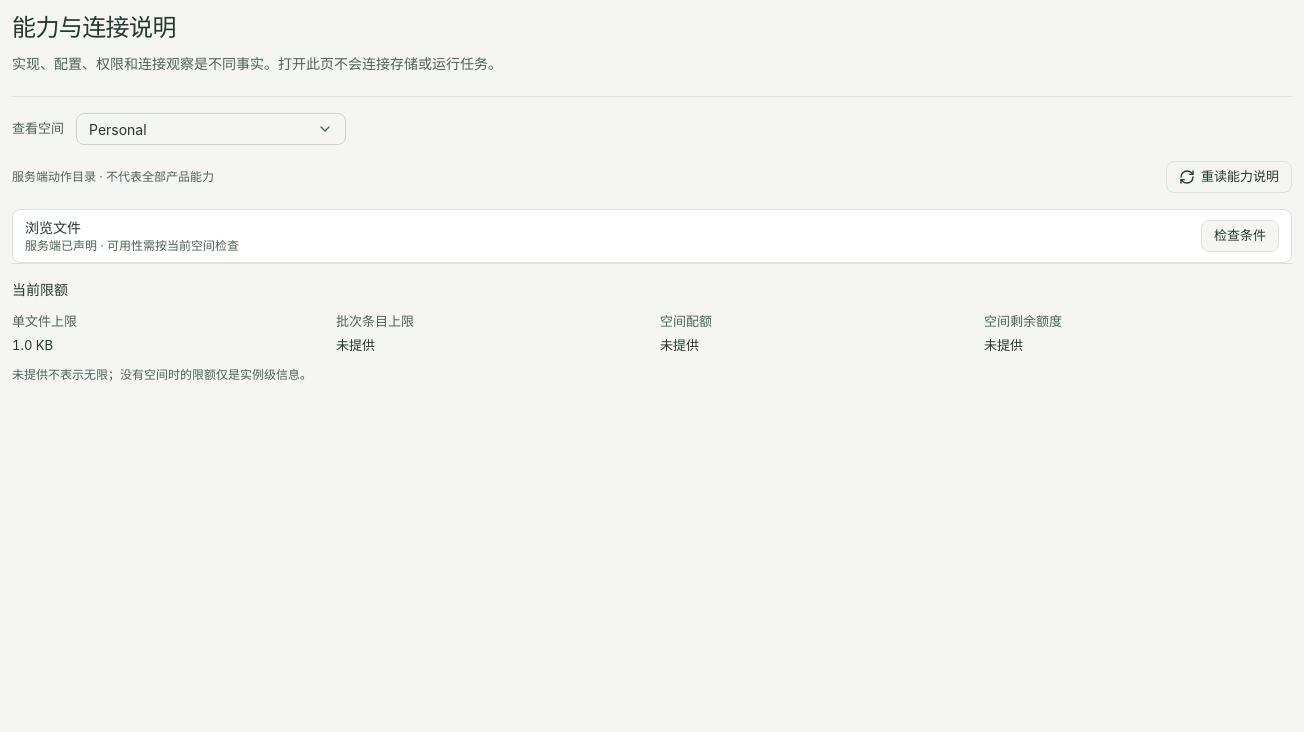
Test: only reads discovery on entry and checks one action explicitly with its space and CSRF
Click the button with aria-label "检查能力 file_list". click: {"x": 1240, "y": 236}
box: x1=1201 y1=220 x2=1279 y2=252
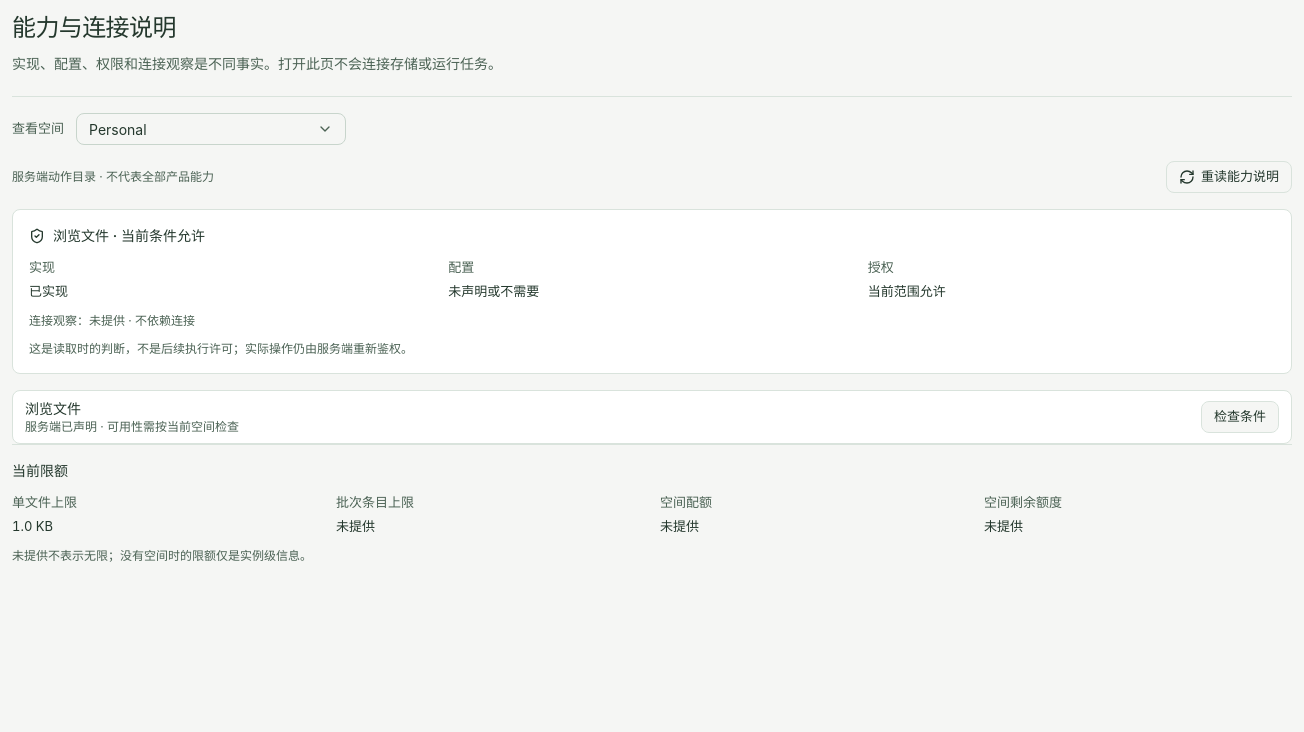
Check: the element named "动作可用性观察" is shown, box x1=12 y1=209 x2=1292 y2=374
Check: the text "这是读取时的判断，不是后续执行许可；实际操作仍由服务端重新鉴权。" is shown, box x1=29 y1=341 x2=413 y2=356
